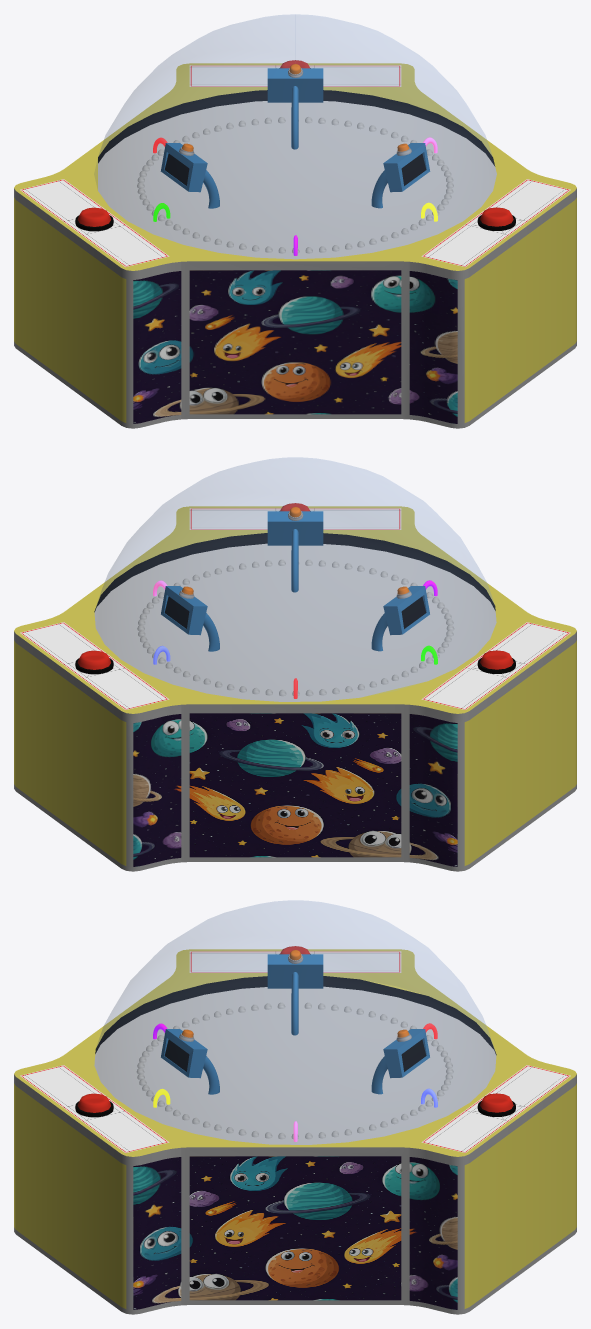
The model's file is Cyclone Machine.fbx.
3 views of the same model, one above another, from view 1: azimuth 30°, elevation 25°; view 2: azimuth 150°, elevation 25°; view 3: azimuth 270°, elevation 25° (orthographic).
Parts seen in each view (by area): view 1: Arcade Machine, Dome, Faceplate, Jackpot Displays, Button.001, Button.003; view 2: Arcade Machine, Dome, Faceplate, Jackpot Displays, Button.002, Button.003; view 3: Arcade Machine, Dome, Faceplate, Jackpot Displays, Button.001, Button.002.
Part boxes in pixels (x1,y1,x2,y2): Arcade Machine: (14,63,576,428); Dome: (94,14,496,258); Faceplate: (98,90,496,259); Jackpot Displays: (160,68,430,208); Button.001: (480,207,513,226); Button.003: (77,207,110,226); Arcade Machine: (14,506,576,871); Dome: (94,457,495,701); Faceplate: (94,533,496,701); Jackpot Displays: (161,511,429,651); Button.002: (77,650,110,669); Button.003: (480,650,513,669); Arcade Machine: (14,949,576,1314); Dome: (95,900,496,1144); Faceplate: (94,976,496,1144); Jackpot Displays: (161,954,429,1094); Button.001: (77,1093,110,1112); Button.002: (480,1093,513,1112).
Size of the model in its own units: 2.06 by 1.38 by 2.36.
